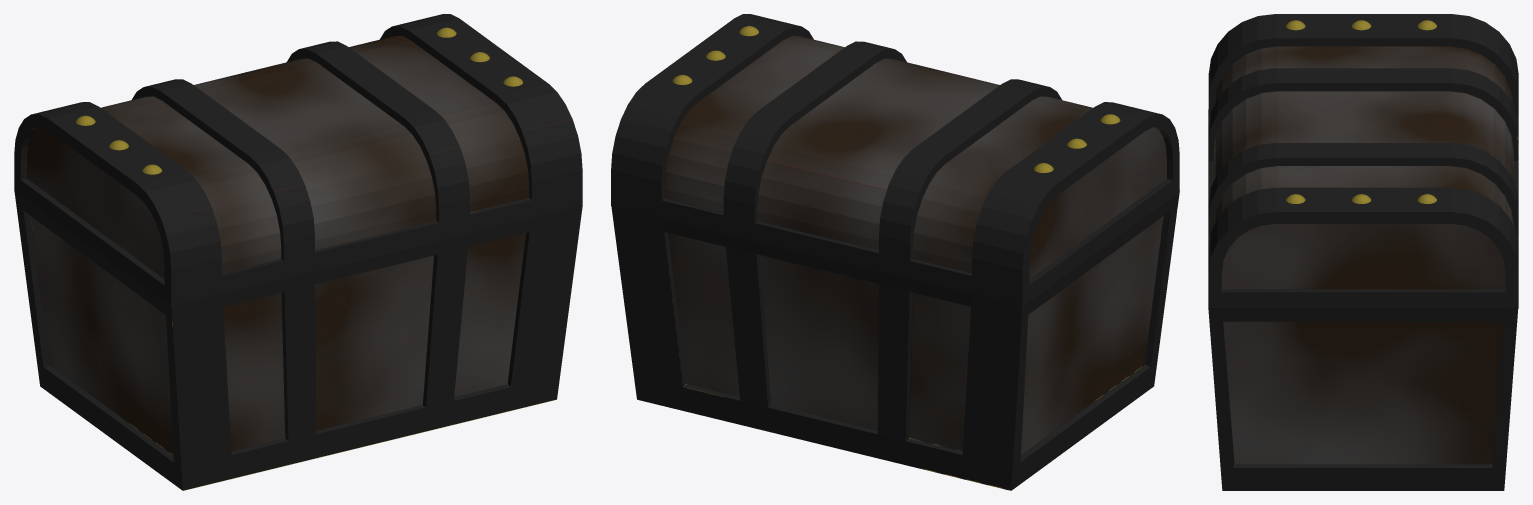
The model's file is chest.fbx.
3 renders of one model, left to right at view 1: azimuth 30°, elevation 25°; view 2: azimuth 150°, elevation 25°; view 3: azimuth 270°, elevation 25°, orthographic.
Visible parts, largest first — view 1: Treasure2, Treasure1; view 2: Treasure2, Treasure1; view 3: Treasure2, Treasure1.
Part boxes in pixels (x1,y1,x2,y2): Treasure2: (14, 14, 582, 305); Treasure1: (14, 192, 582, 490); Treasure2: (611, 14, 1179, 306); Treasure1: (611, 190, 1179, 490); Treasure2: (1208, 14, 1518, 308); Treasure1: (1208, 109, 1518, 490).
Bounding box in the file's own units: 663 × 457 × 439.
2 materials, 2 textured.
